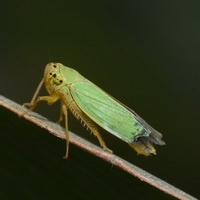insect: (23, 63, 164, 158)
